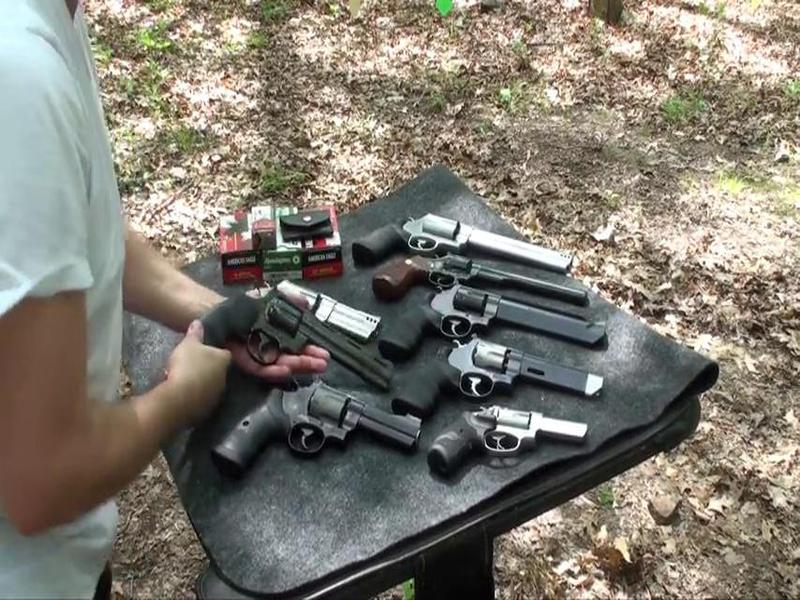Revolver: (200, 274, 398, 398)
